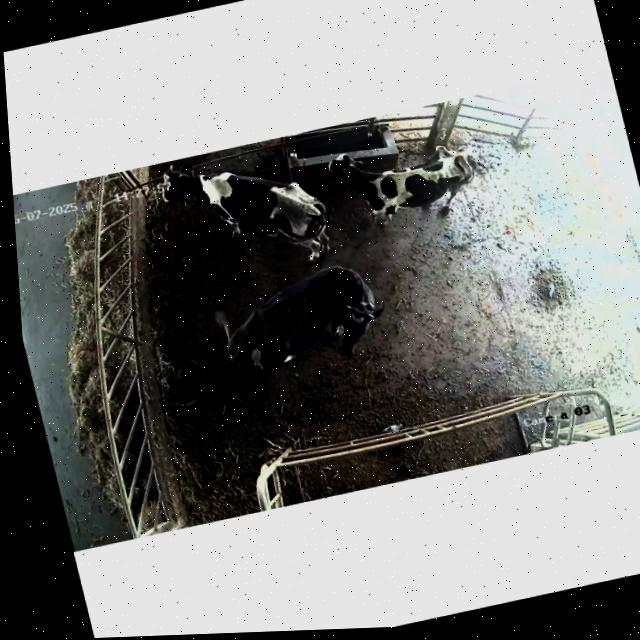stand: (149, 132, 343, 293), (202, 253, 405, 390), (320, 120, 503, 244)
